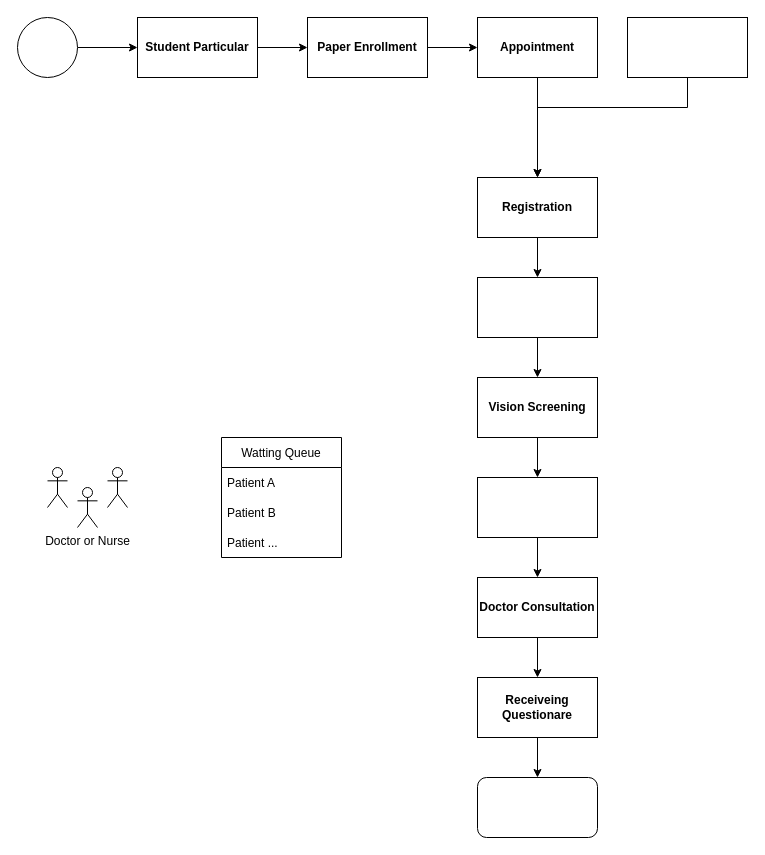
Some shapes in this 765 by 855 pixel diagram are drawn without their labels. The centre of each missing label's shape, as x and y in pixels:
"End" belongs at point 537,807.
"Follow Up Appointment" belongs at point 687,47.
"Mesurement" belongs at point 537,307.
"Nurse Interview" belongs at point 537,507.
"Start" belongs at point 47,47.
